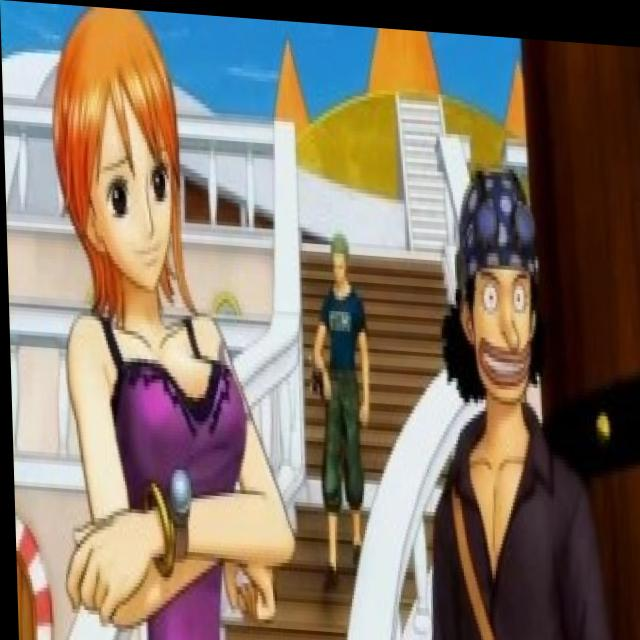Nami: (47, 18, 189, 305)
Usopp: (439, 149, 553, 414)
Zoro: (323, 225, 356, 287)
